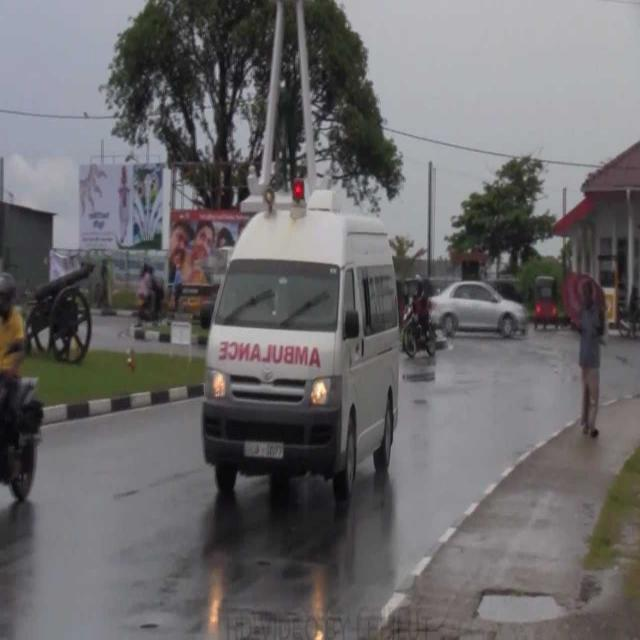emergency-vehicle: (180, 153, 408, 499)
